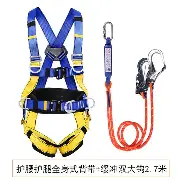safety belt: (18, 7, 166, 158)
